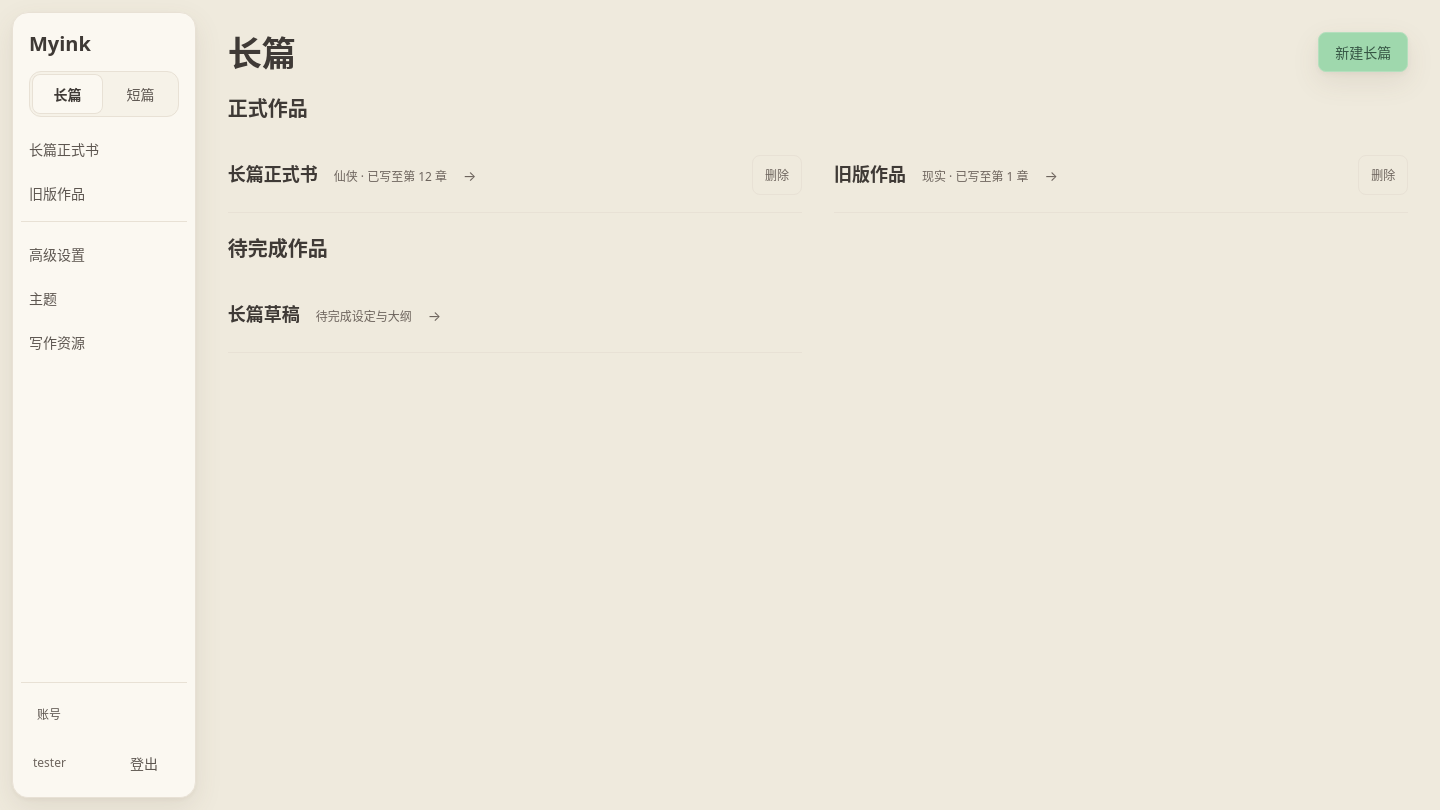
reloads the list after successful deletion using the shared API
Click the button with aria-label "删除《长篇正式书》". click: (777, 174)
box: [752,154,802,194]
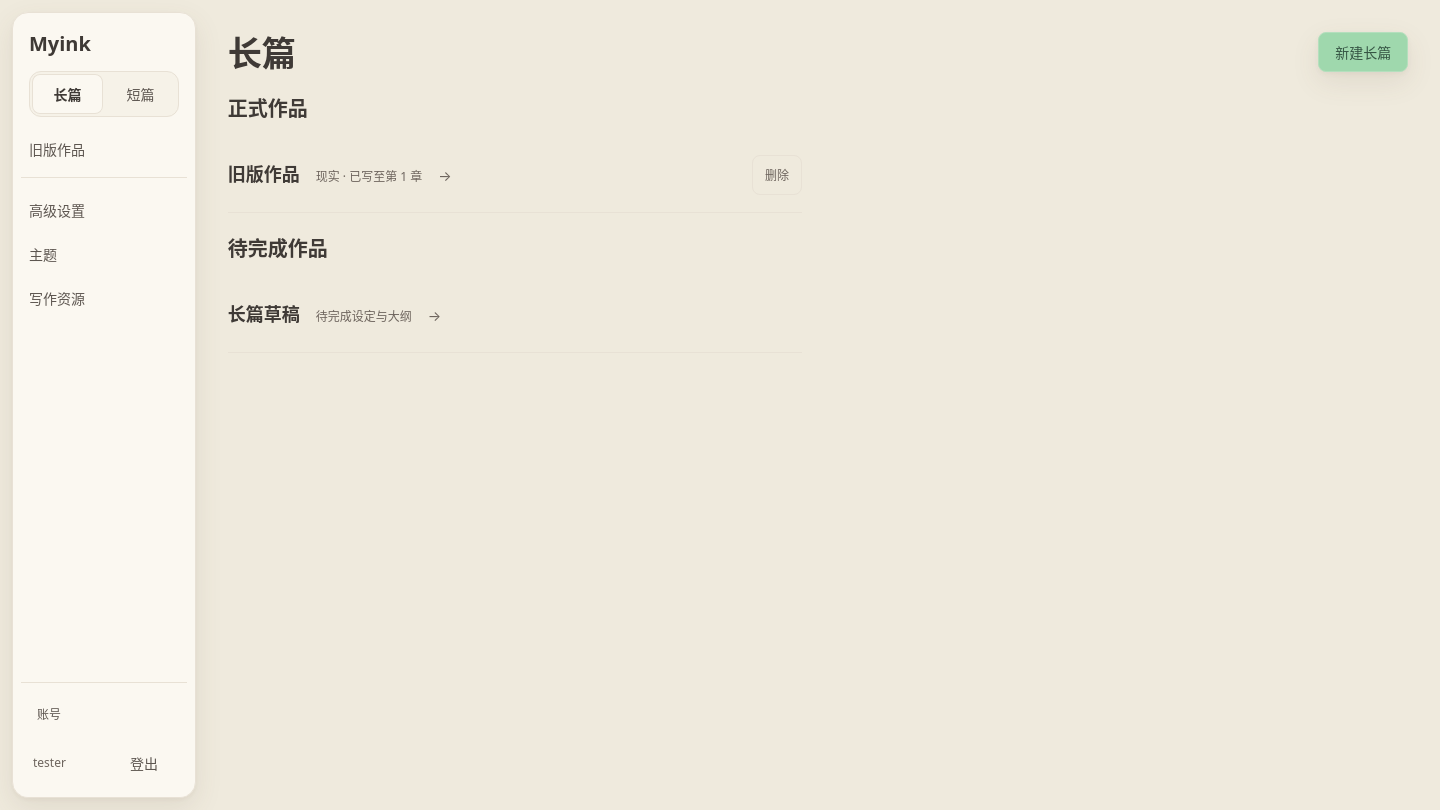
Expected: the text "旧版作品" next to "现实 · 已写至第 1 章" is shown, [228,162,300,186]
Expected: the link "长篇正式书" is gone
